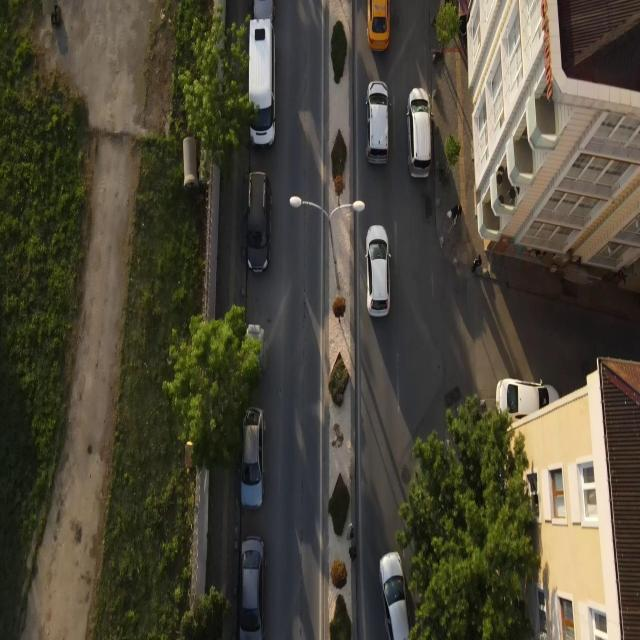p3rson: (472, 254, 482, 272), (451, 204, 462, 218)
